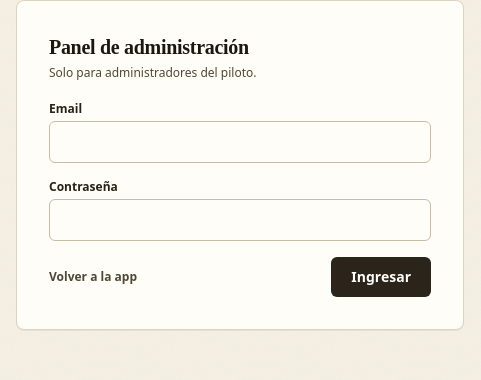
it: AdminView — acceso › un usuario autenticado que no es admin (403) vuelve al login con el motivo y se cierra su sesión
Step 1. Type "admin@ejemplo.com" into the field labelled "Email" → (240, 142), box [49,121,431,163]
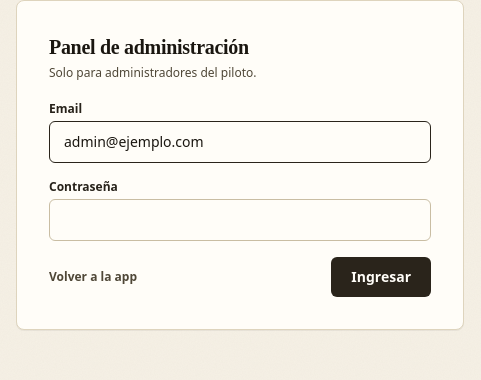
Step 2. Type "secreta" into the password field labelled "Contraseña" → (240, 220), box [49,199,431,241]
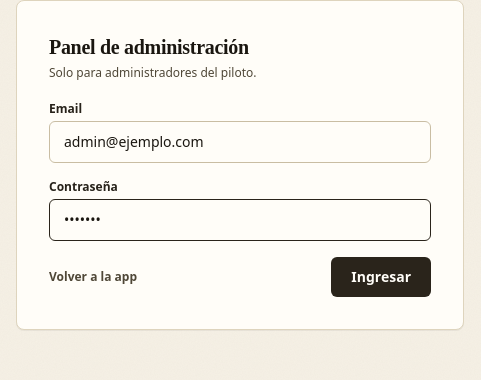
Step 3. Click the button "Ingresar" → (381, 277), box [331,257,431,297]
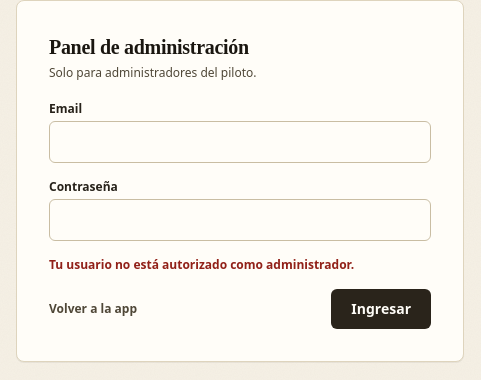
Now the message shows "no está autorizado", box [49,256,354,273]
